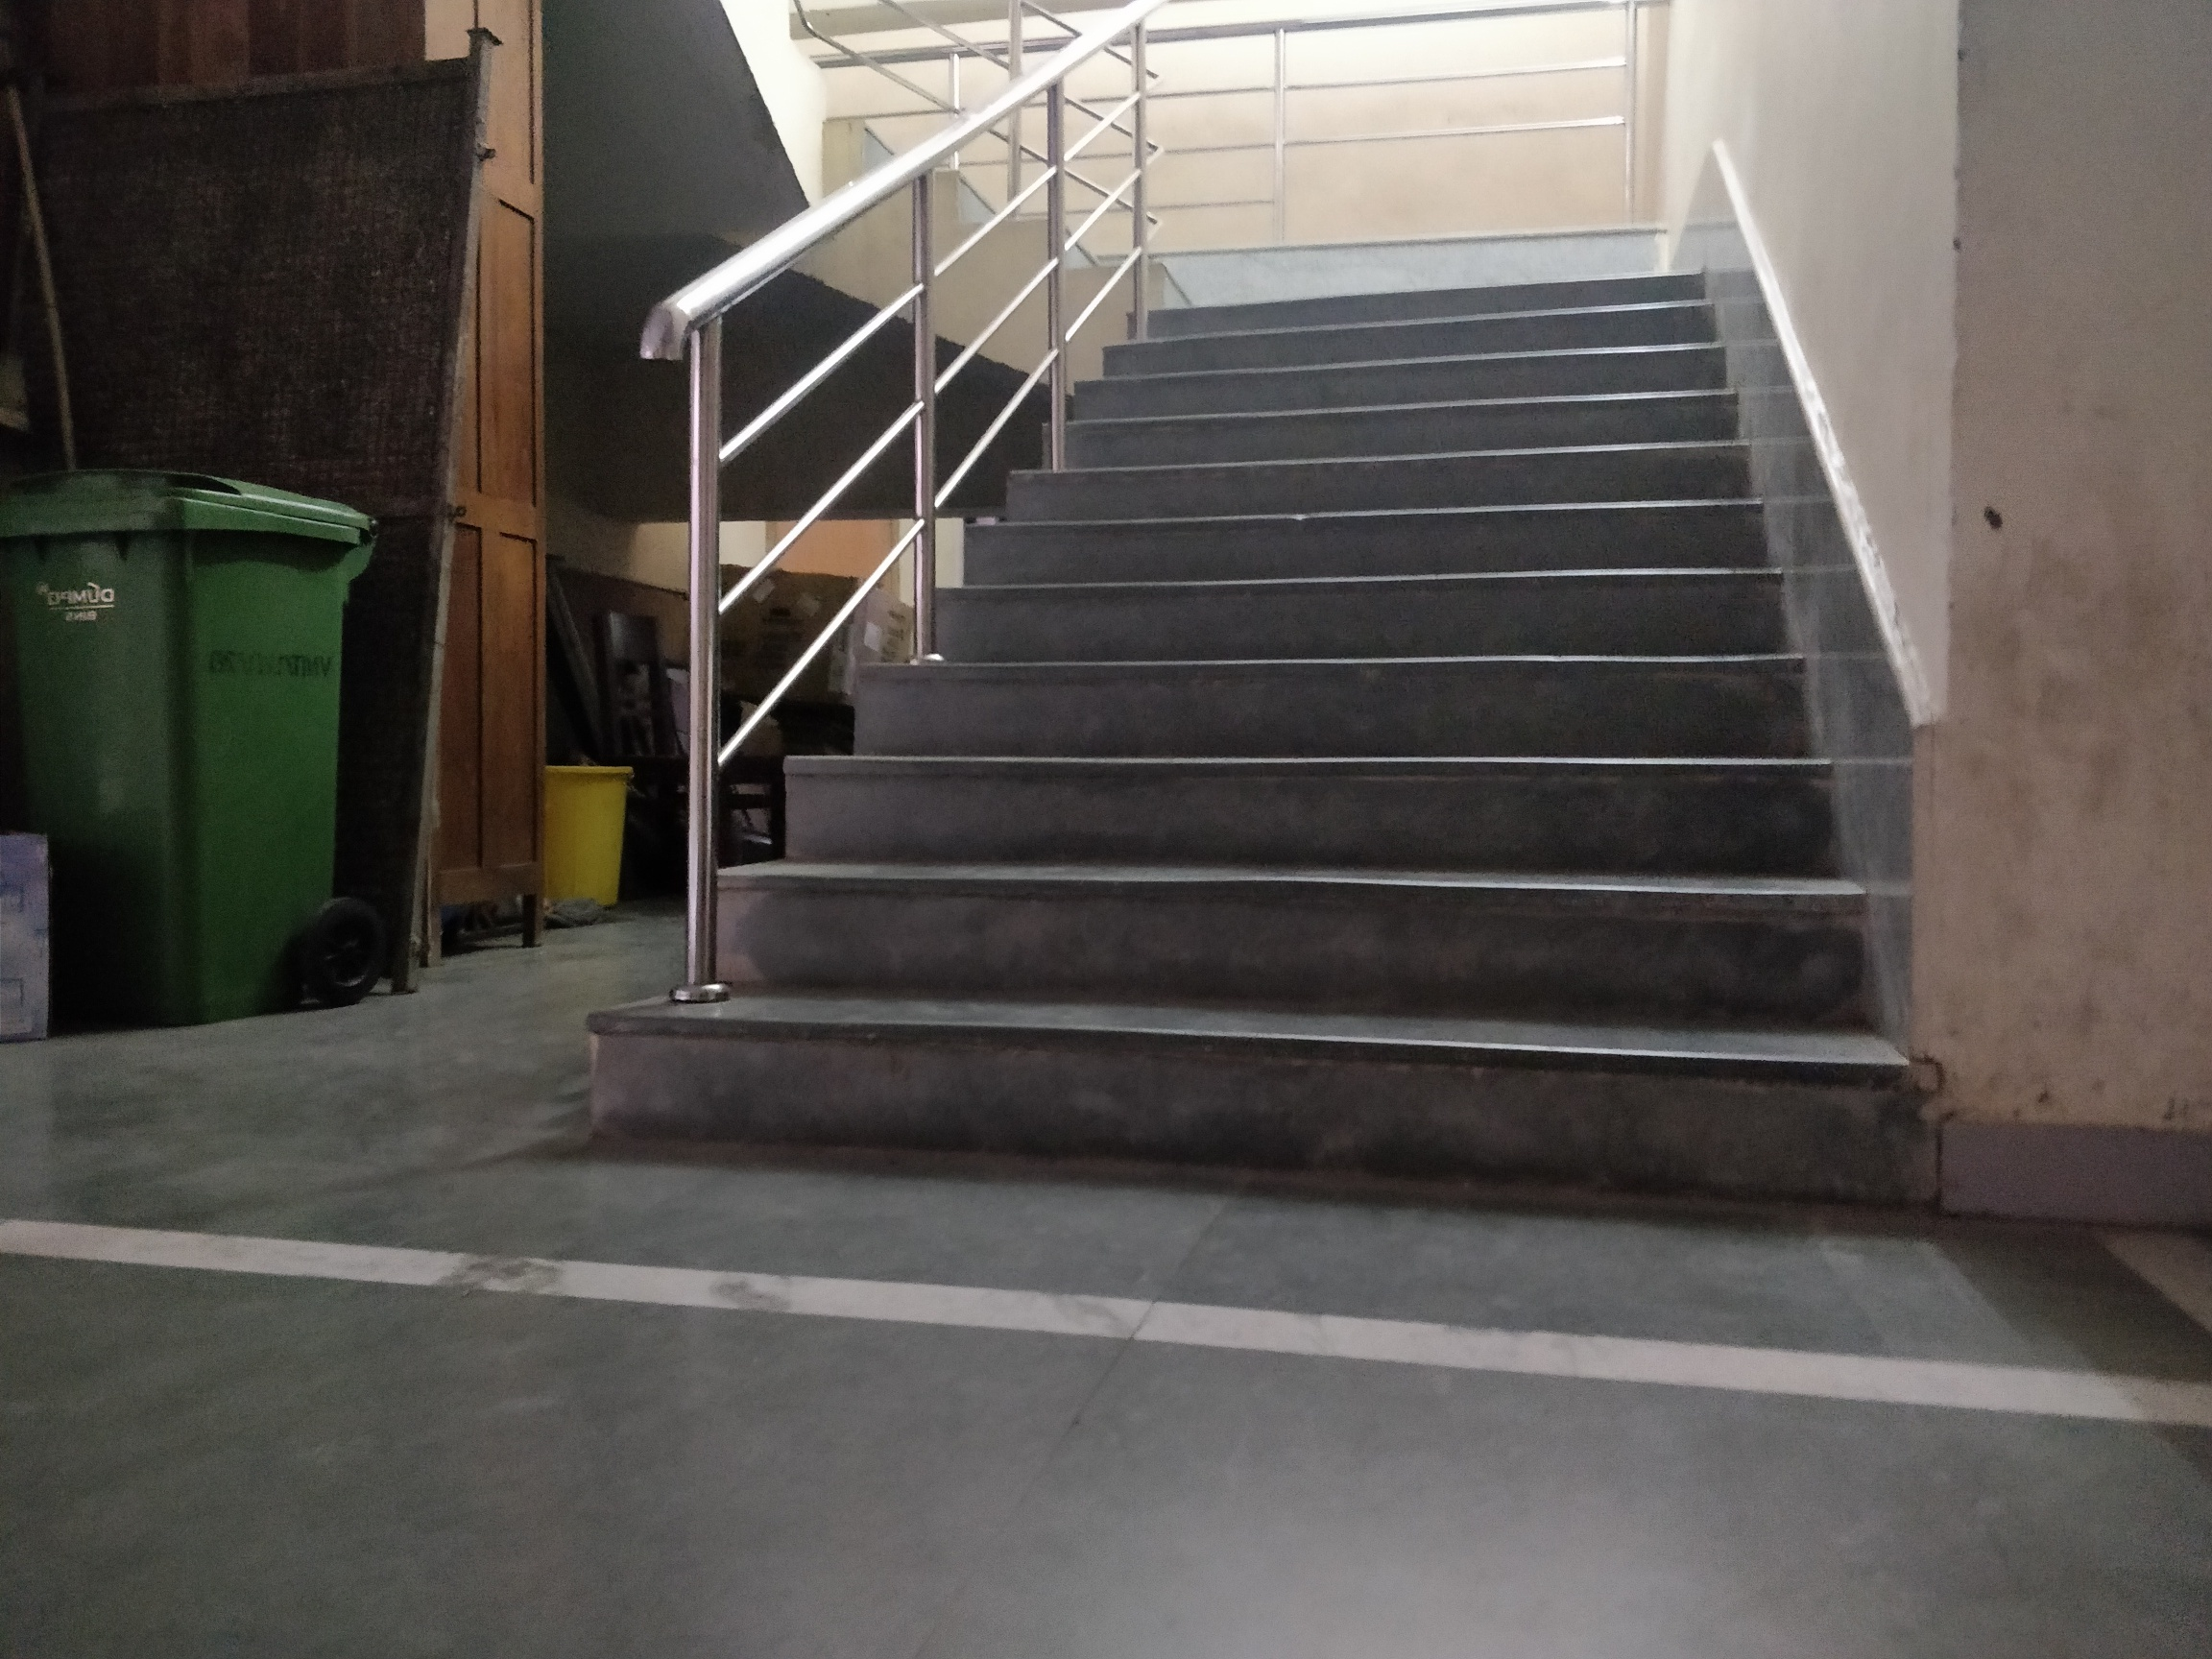stairs_up: (681, 247, 1756, 1176)
